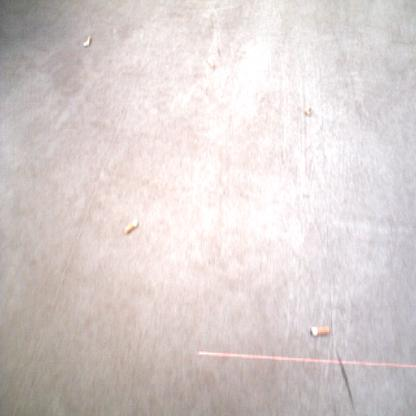dirty: (309, 324, 331, 337), (124, 219, 138, 236), (206, 55, 216, 70), (82, 35, 92, 48), (304, 107, 312, 117)
mark: (335, 348, 356, 414), (216, 47, 222, 59)
